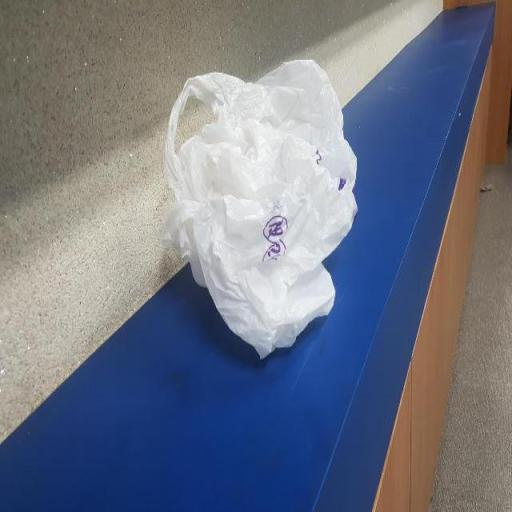plastic-bag: (158, 57, 360, 360)
